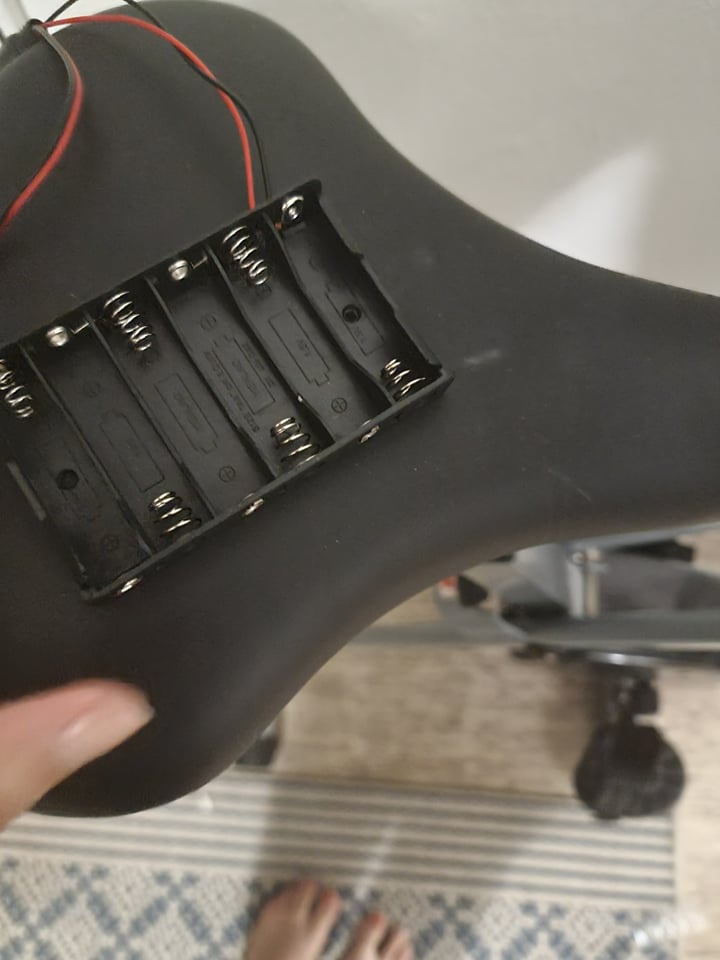BATTERY BOX: (1, 172, 449, 628)
